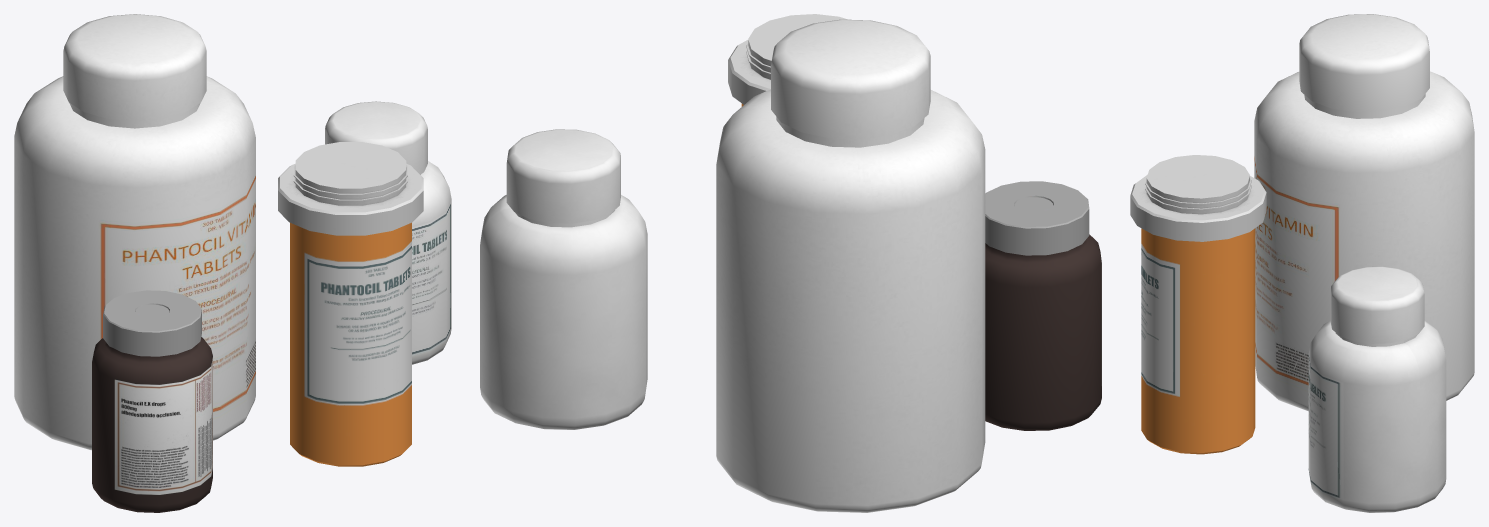
Rendered from pillBottle.glb.
The picture shows the model from 3 angles, left to right: view 1: azimuth 30°, elevation 25°; view 2: azimuth 150°, elevation 25°; view 3: azimuth 270°, elevation 25°; orthographic projection. The views are drawn at different scales.
Visible parts, largest first — view 1: Pill_Bottle-02, Phantocil, Small_Drug_Bottle, Pill_Bottle-01; view 2: Pill_Bottle-02, Pill_Bottle-01, Small_Drug_Bottle, Phantocil; view 3: Pill_Bottle-02, Phantocil, Pill_Bottle-01.
Boxes of the visible parts, x1=… form: Pill_Bottle-02: x1=14, y1=14, x2=255, y2=450; Phantocil: x1=278, y1=142, x2=423, y2=466; Small_Drug_Bottle: x1=92, y1=290, x2=212, y2=512; Pill_Bottle-01: x1=325, y1=101, x2=451, y2=364; Pill_Bottle-02: x1=716, y1=19, x2=985, y2=512; Pill_Bottle-01: x1=480, y1=129, x2=647, y2=429; Small_Drug_Bottle: x1=985, y1=181, x2=1101, y2=430; Phantocil: x1=728, y1=14, x2=847, y2=106; Pill_Bottle-02: x1=1254, y1=14, x2=1474, y2=411; Phantocil: x1=1130, y1=155, x2=1266, y2=454; Pill_Bottle-01: x1=1308, y1=266, x2=1446, y2=512.
Size of the model in its own units: 162 by 129 by 119.
Materials: 4 (4 with a texture image).
